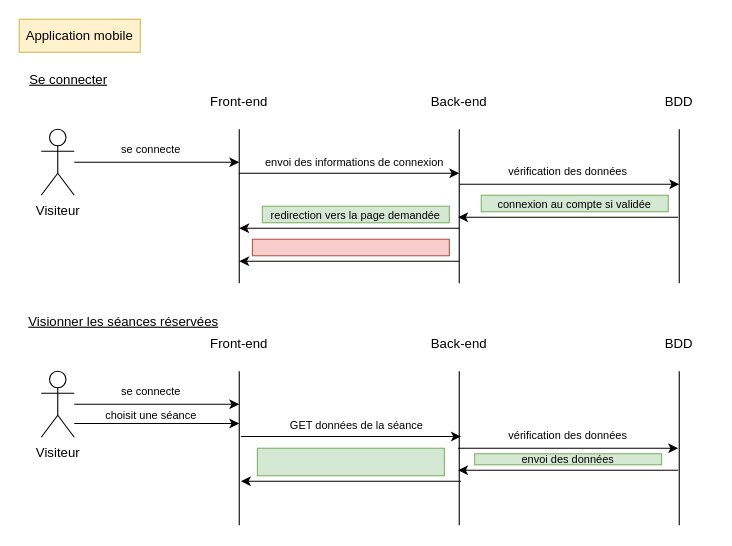
Image size: 732x546. Some labels were removed from this diagram. Each missing label, with the box of its shape:
affichage des informations de la séance et du QR code: (256, 447, 444, 476)
message d'erreur si compte inexistant: (251, 238, 449, 256)
